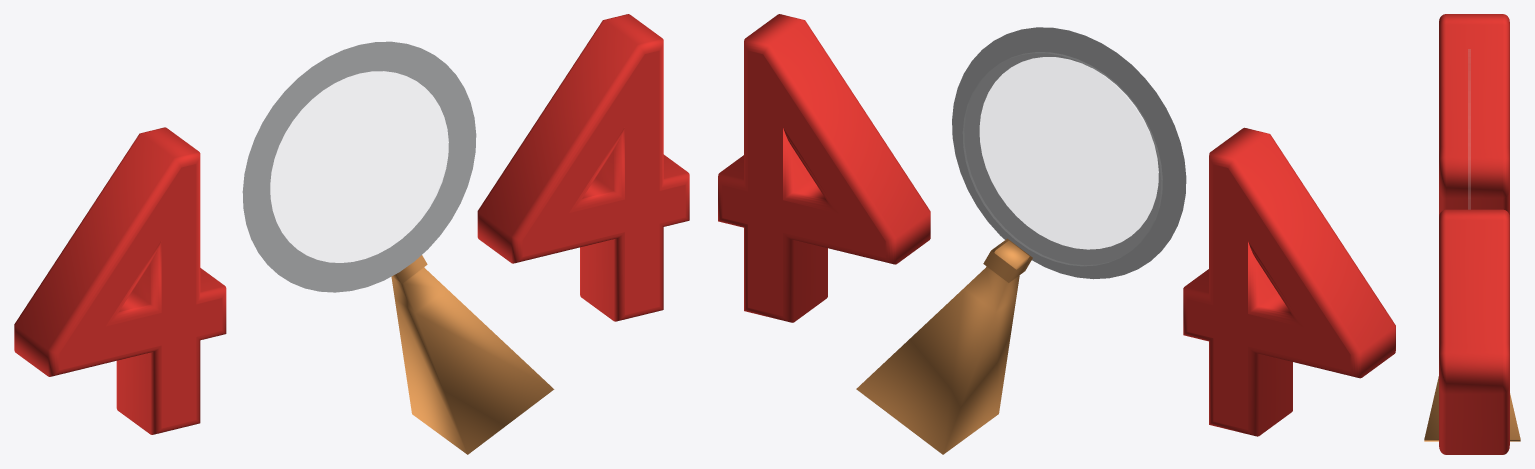
The picture shows the model from 3 angles, left to right: view 1: azimuth 30°, elevation 25°; view 2: azimuth 150°, elevation 25°; view 3: azimuth 270°, elevation 25°; orthographic projection. The views are drawn at different scales.
Parts seen in each view (by area): view 1: Text.003, Text.004, Cylinder.008, Cylinder.007, Cube.017; view 2: Text.003, Text.004, Cylinder.008, Cylinder.007, Cube.017; view 3: Text.004, Text.003, Cube.017, Cylinder.008.
Boxes of the visible parts, x1,y1,x2,y2 form: Text.003: [14, 127, 226, 434]; Text.004: [477, 14, 689, 321]; Cylinder.008: [271, 71, 448, 262]; Cylinder.007: [242, 41, 476, 292]; Cube.017: [391, 255, 554, 454]; Text.003: [1183, 127, 1395, 436]; Text.004: [718, 14, 930, 322]; Cylinder.008: [963, 52, 1162, 265]; Cylinder.007: [952, 27, 1186, 279]; Cube.017: [856, 238, 1032, 454]; Text.004: [1439, 209, 1509, 454]; Text.003: [1439, 14, 1509, 216]; Cube.017: [1424, 376, 1520, 441]; Cylinder.008: [1468, 49, 1470, 208].
Size of the model in its own units: 7.95 by 4.95 by 1.2.
